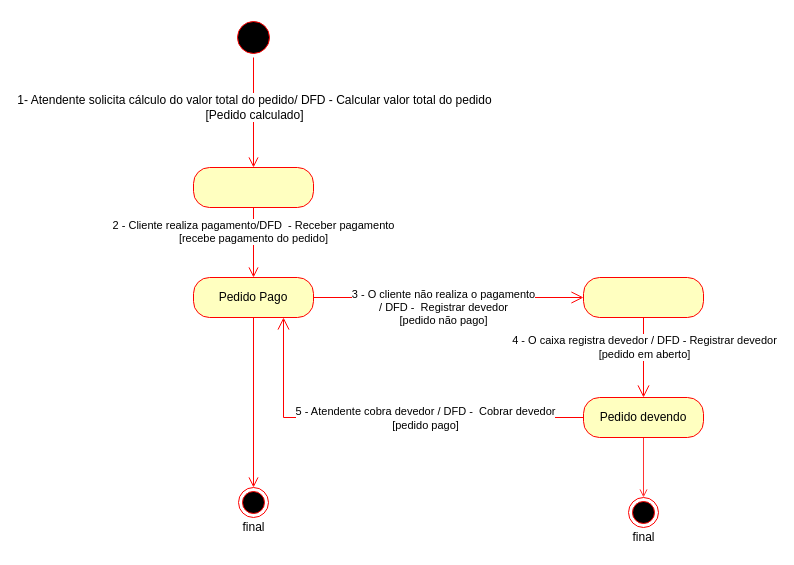
This 794x565 diagram has some shape labels left out. The shapes that lost their labels are listed below. From the top down, each one's centre as x and y in pixels, then its label:
At point (253, 187): "Pedido Calculado".
At point (643, 297): "Pedido não pago".
